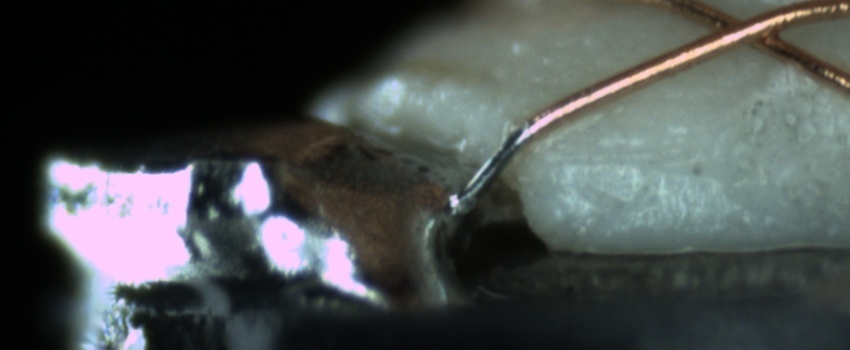CL: (687, 1, 808, 59)
DL: (536, 126, 701, 187)
TS: (457, 120, 534, 211)
TTCW: (455, 93, 565, 217)
